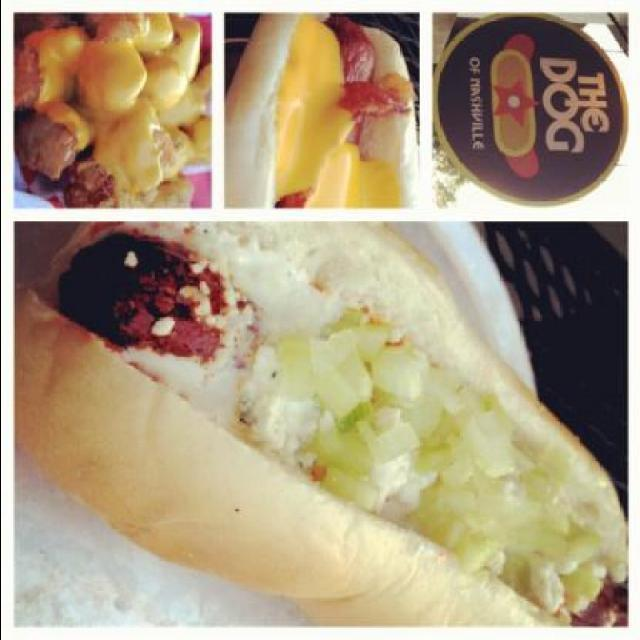Hot dog: (14, 210, 640, 634), (224, 12, 420, 208)
